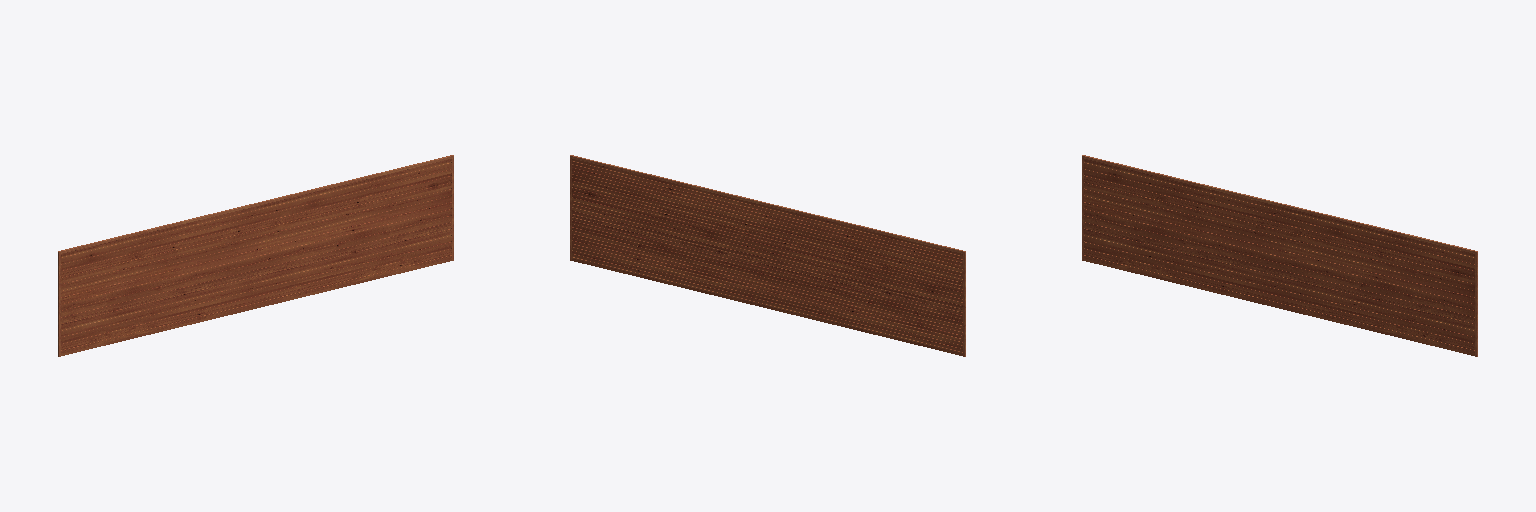
3 renders of one model, left to right at view 1: azimuth 30°, elevation 25°; view 2: azimuth 150°, elevation 25°; view 3: azimuth 330°, elevation 25°, orthographic.
Parts seen in each view (by area): view 1: wall_planks, trim_top; view 2: wall_planks, trim_top; view 3: wall_planks, trim_top.
Boxes of the visible parts, x1,y1,x2,y2 form: wall_planks: [61, 159, 451, 355]; trim_top: [58, 155, 453, 253]; wall_planks: [572, 159, 962, 355]; trim_top: [570, 155, 965, 253]; wall_planks: [1084, 159, 1474, 355]; trim_top: [1082, 155, 1477, 253].
Size of the model in its own units: 372 by 94.5 by 1.82.
Materials: 2 (2 with a texture image).